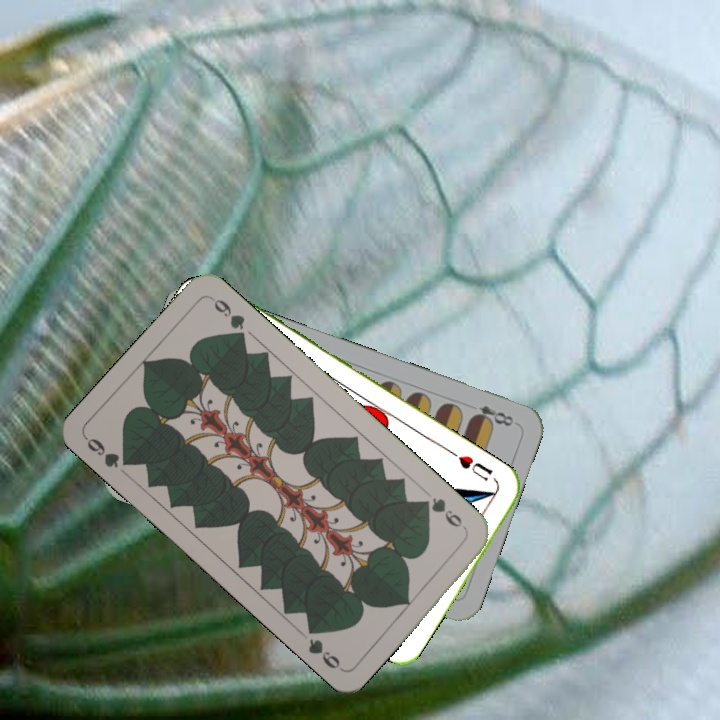E8: (467, 401, 519, 429)
G9: (417, 493, 470, 534), (81, 433, 136, 471)
HU: (454, 451, 495, 484)
